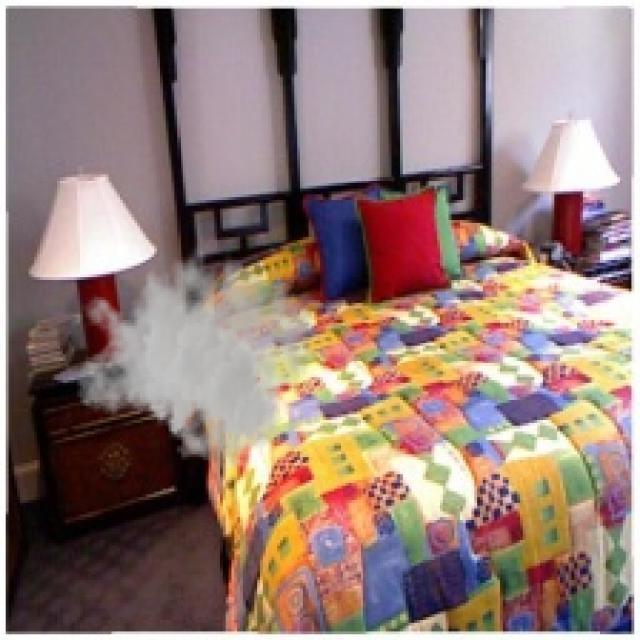Smoke: (74, 232, 314, 468)
